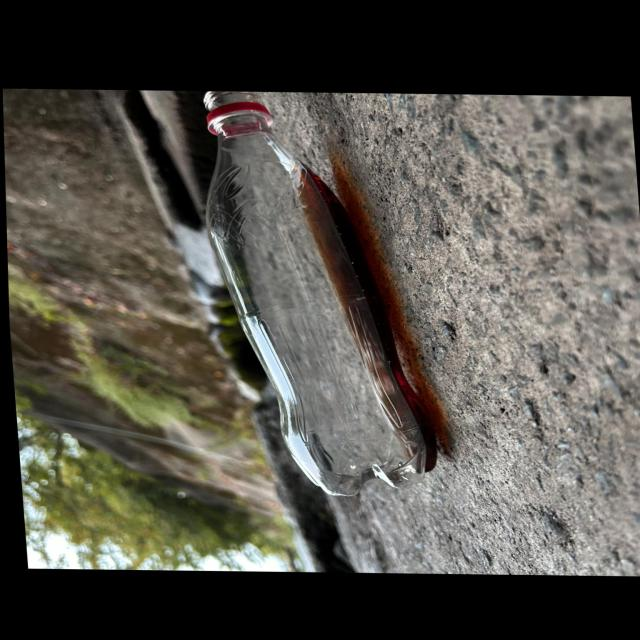low: (204, 91, 436, 496)
